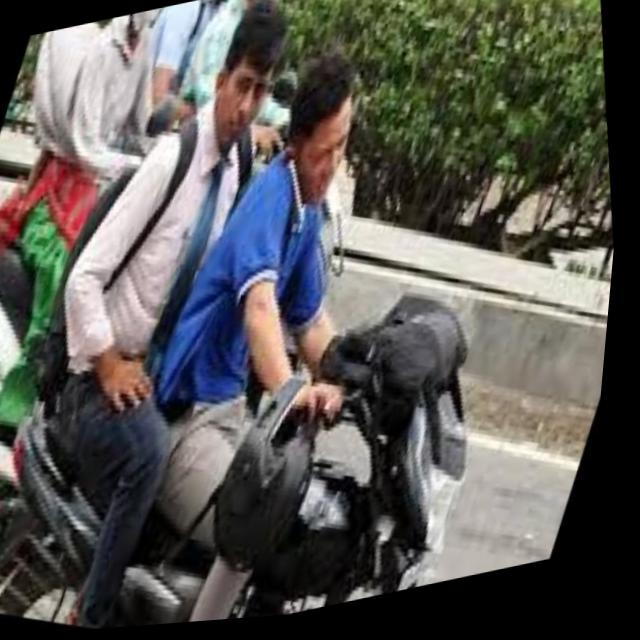USING_MOBILE: (239, 45, 394, 238)
